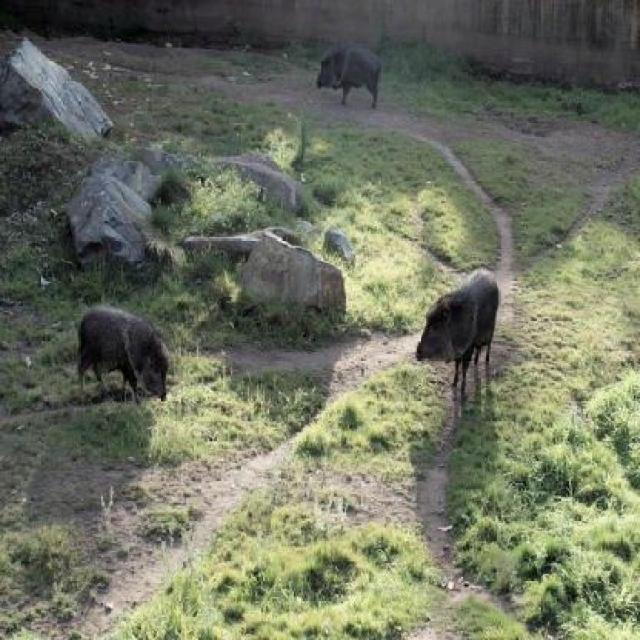Boar: (414, 265, 500, 392), (78, 303, 170, 405), (316, 43, 382, 109)
